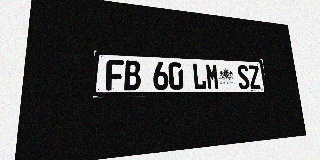0: (168, 62, 184, 90)
6: (153, 61, 169, 90)
B: (124, 60, 141, 90)
F: (106, 59, 124, 91)
L: (192, 63, 207, 90)
M: (205, 63, 220, 90)
S: (237, 65, 250, 89)
Z: (248, 65, 261, 89)
